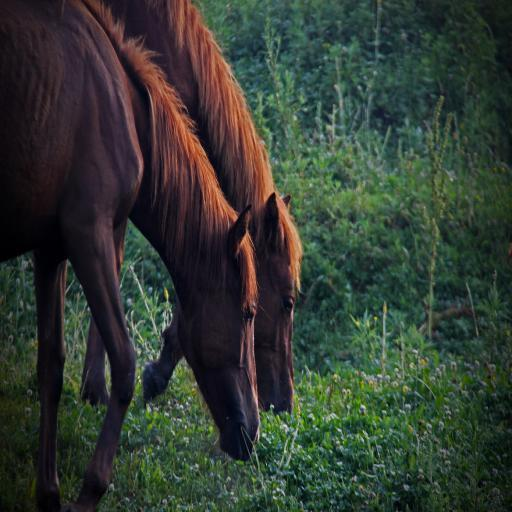horse: (0, 0, 262, 512), (80, 0, 306, 415)
